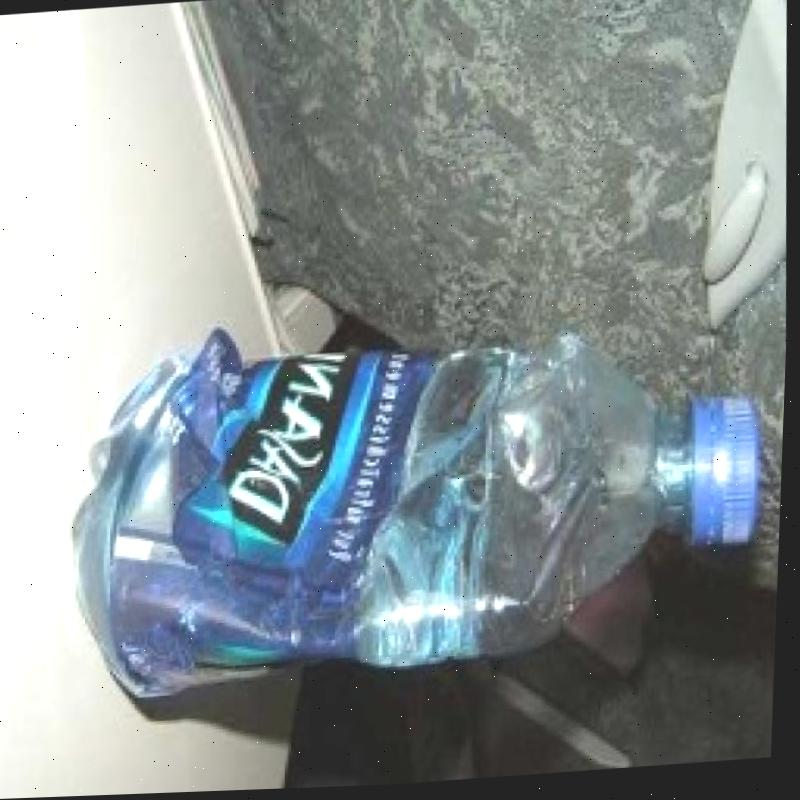botella: (55, 291, 773, 710)
